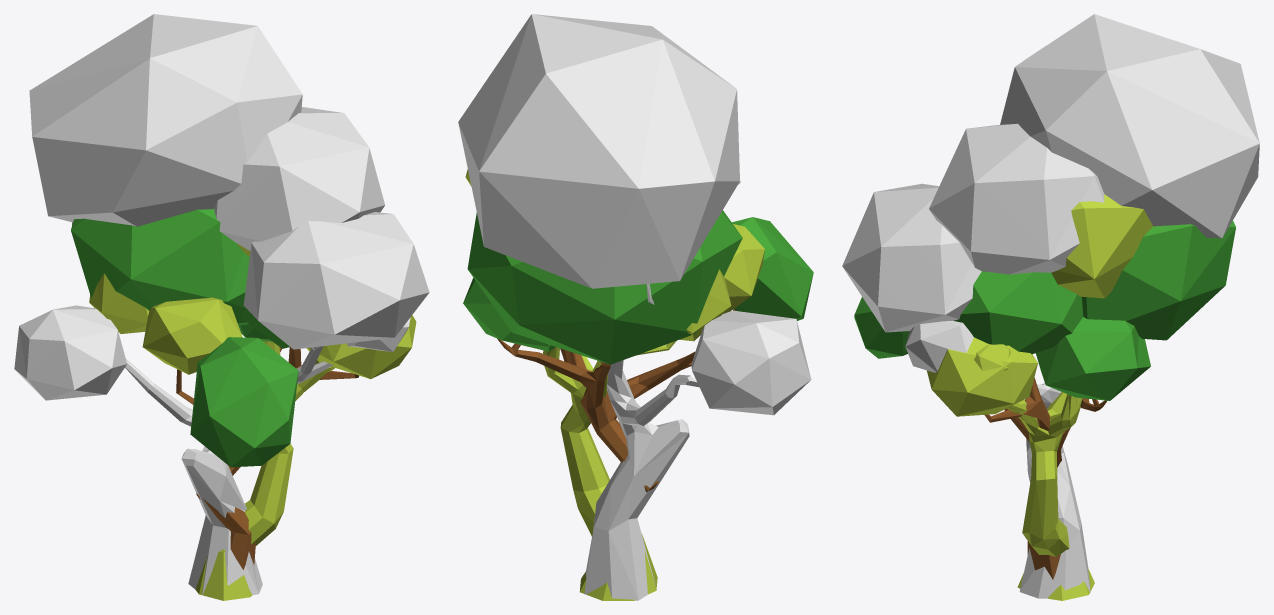
The model's file is Lowpoly_tree_set.fbx.
3 renders of one model, left to right at view 1: azimuth 30°, elevation 25°; view 2: azimuth 150°, elevation 25°; view 3: azimuth 270°, elevation 25°, orthographic. The views are drawn at different scales.
Parts seen in each view (by area): view 1: Lowpoly_Tree_15, Lowpoly_Tree_02, Lowpoly_Tree_01; view 2: Lowpoly_Tree_15, Lowpoly_Tree_02, Lowpoly_Tree_01; view 3: Lowpoly_Tree_15, Lowpoly_Tree_02, Lowpoly_Tree_01.
Boxes of the visible parts, <box> form: Lowpoly_Tree_15: <box>14,14,429,595</box>; Lowpoly_Tree_02: <box>71,209,416,569</box>; Lowpoly_Tree_01: <box>89,244,334,600</box>; Lowpoly_Tree_15: <box>458,14,811,600</box>; Lowpoly_Tree_02: <box>463,210,813,492</box>; Lowpoly_Tree_01: <box>465,169,731,600</box>; Lowpoly_Tree_15: <box>842,14,1259,598</box>; Lowpoly_Tree_02: <box>854,221,1235,579</box>; Lowpoly_Tree_01: <box>974,194,1153,600</box>.
Size of the model in its own units: 127 by 192 by 134.
